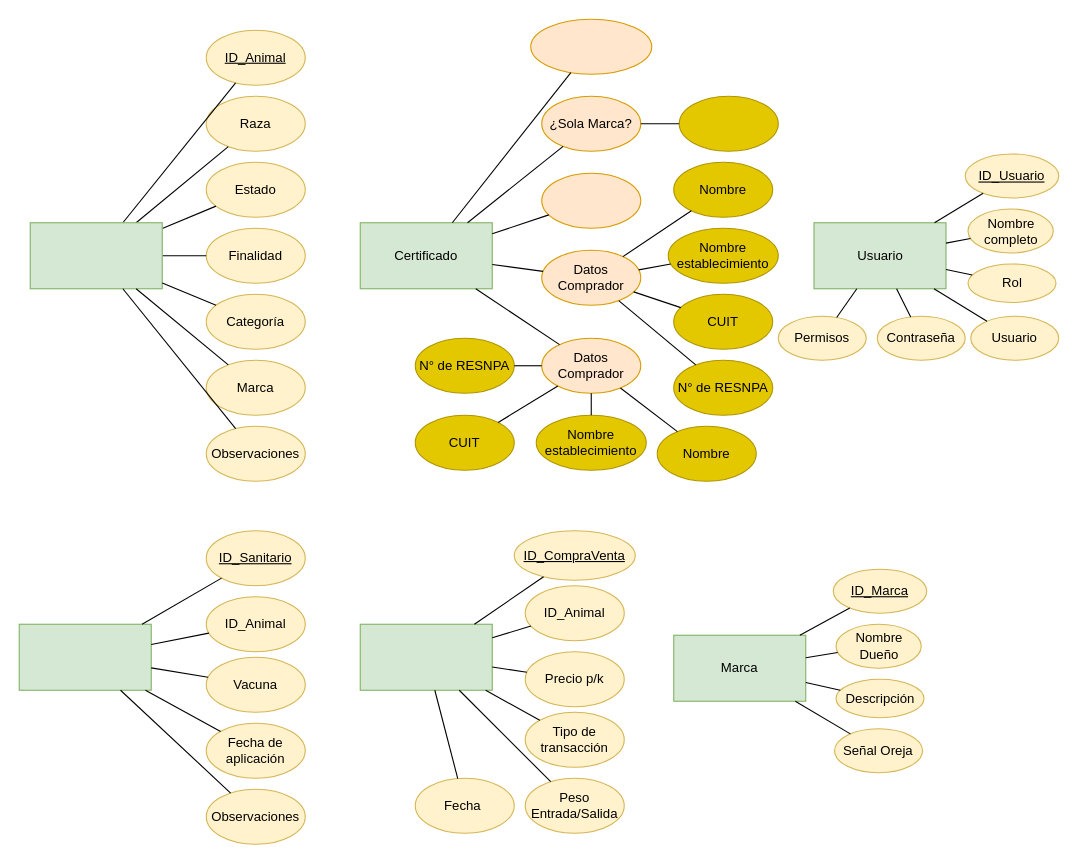
Some shapes in this 1078 by 864 pixel diagram are drawn without their labels. The centre of each missing label's shape, as x and y in pixels:
Animal: (95,255)
Cantidad de marcas: (728,123)
Compra-Venta: (425,656)
Fecha de C - V: (591,200)
ID_NumCertificado: (591,46)
Parte Sanitaria: (84,656)
